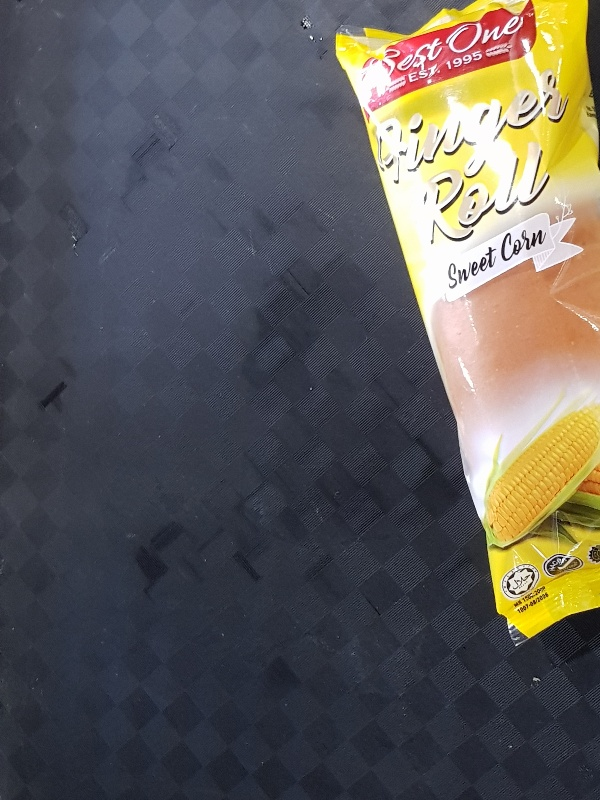Tinges Roll Sweet Corn: (336, 1, 600, 646)
